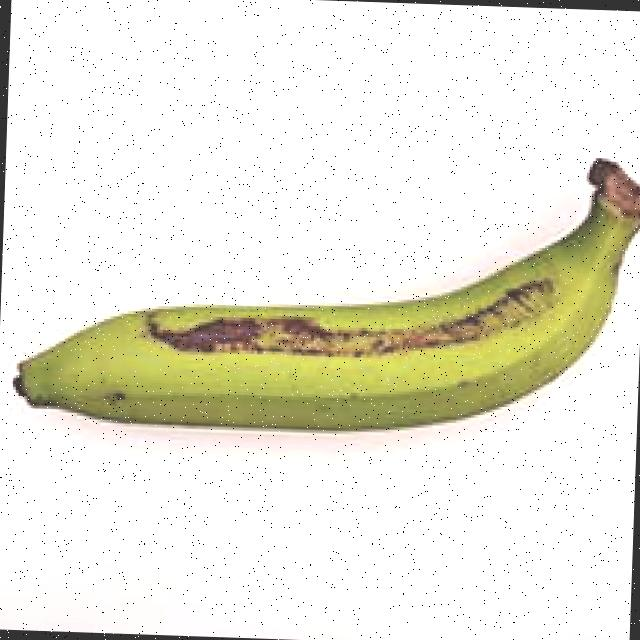Raw: (0, 110, 640, 491)
